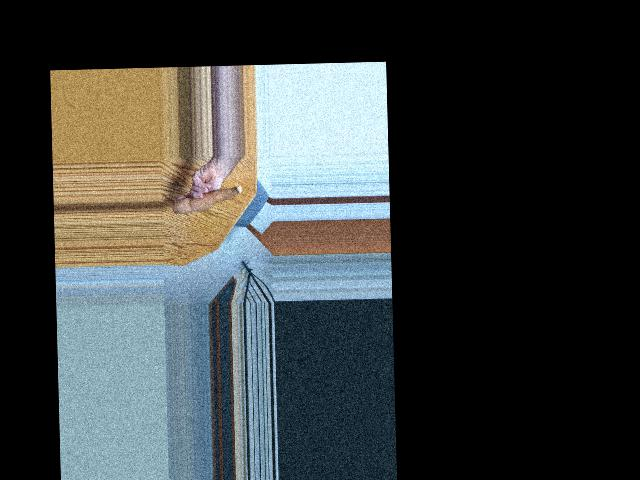sweet_potato: (171, 183, 243, 215)
